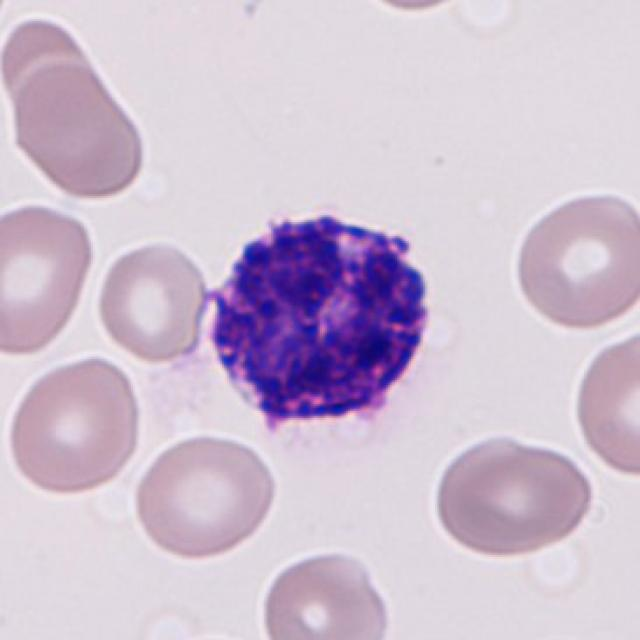Basophil: (190, 193, 453, 467)
RBC: (428, 428, 596, 562), (2, 350, 145, 500), (128, 428, 282, 562), (5, 59, 150, 201), (509, 184, 636, 335), (2, 14, 111, 160), (0, 199, 98, 361), (92, 236, 212, 364), (255, 543, 395, 640), (276, 382, 397, 474), (570, 326, 640, 481), (342, 0, 482, 16)
